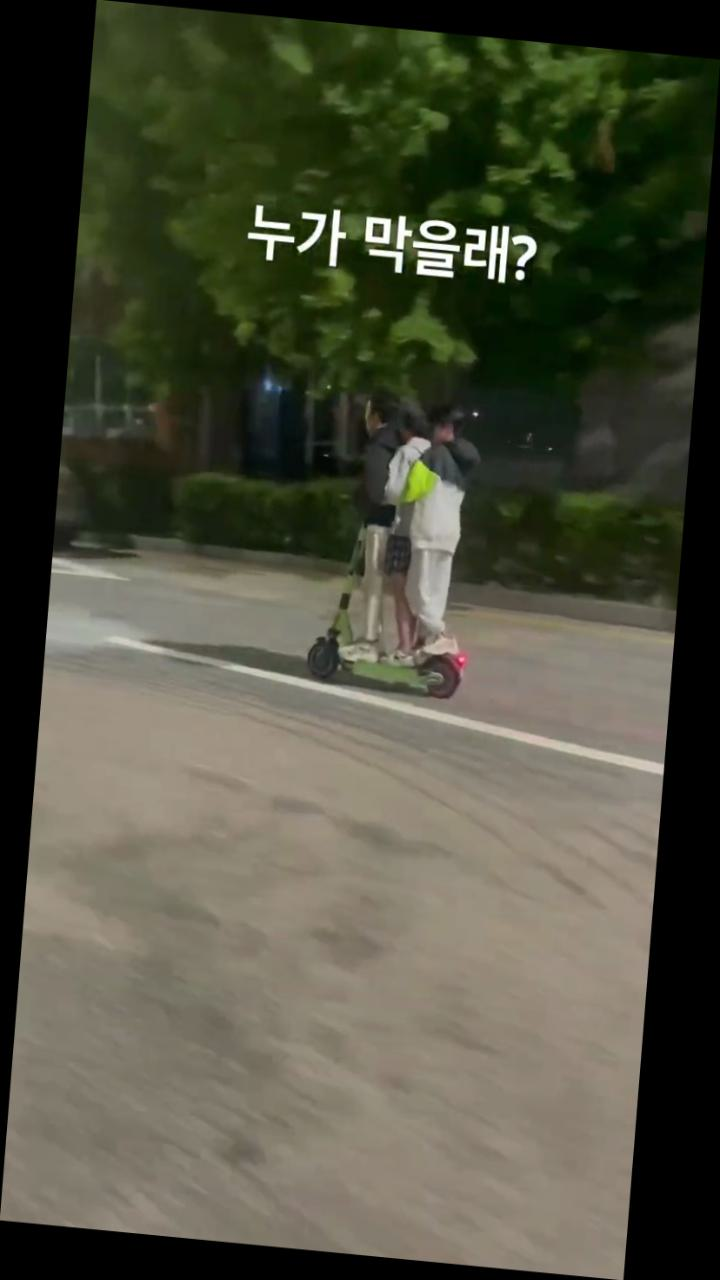multiple: (299, 376, 492, 705)
